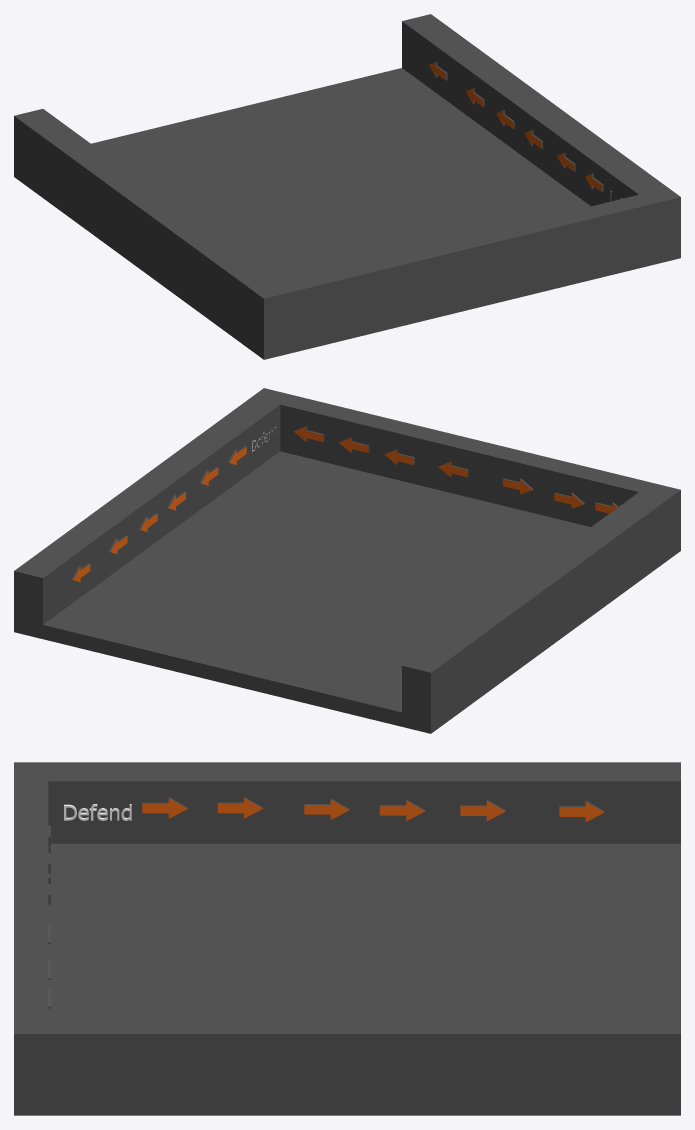
The picture shows the model from 3 angles, top to bottom: view 1: azimuth 30°, elevation 25°; view 2: azimuth 150°, elevation 25°; view 3: azimuth 270°, elevation 25°; orthographic projection. The views are drawn at different scales.
Visible parts, largest first — view 1: SketchUp; view 2: SketchUp; view 3: SketchUp.
Part boxes in pixels (box(x1,y1,x2,y2)): SketchUp: box(14, 14, 680, 359); SketchUp: box(14, 388, 680, 733); SketchUp: box(14, 762, 680, 1115).
Bounding box in the file's own units: 287 × 298 × 40.16.
